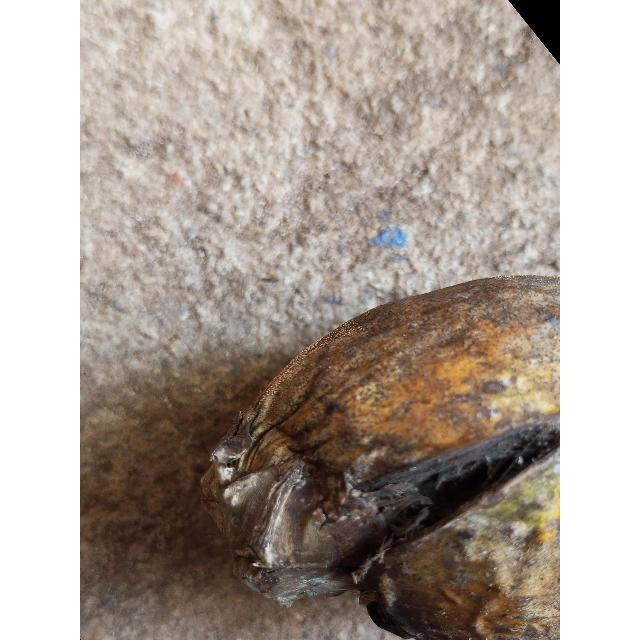damaged: (200, 271, 560, 640)
